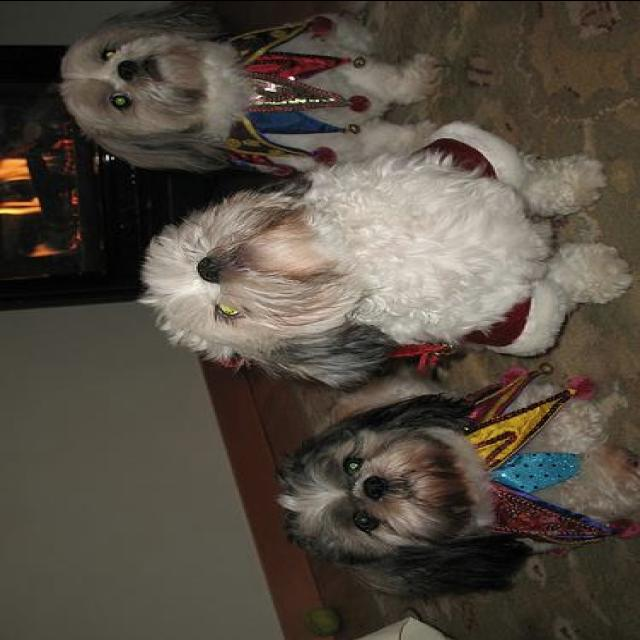shih_tzu: (144, 120, 632, 384), (273, 369, 638, 595), (65, 6, 432, 168)
